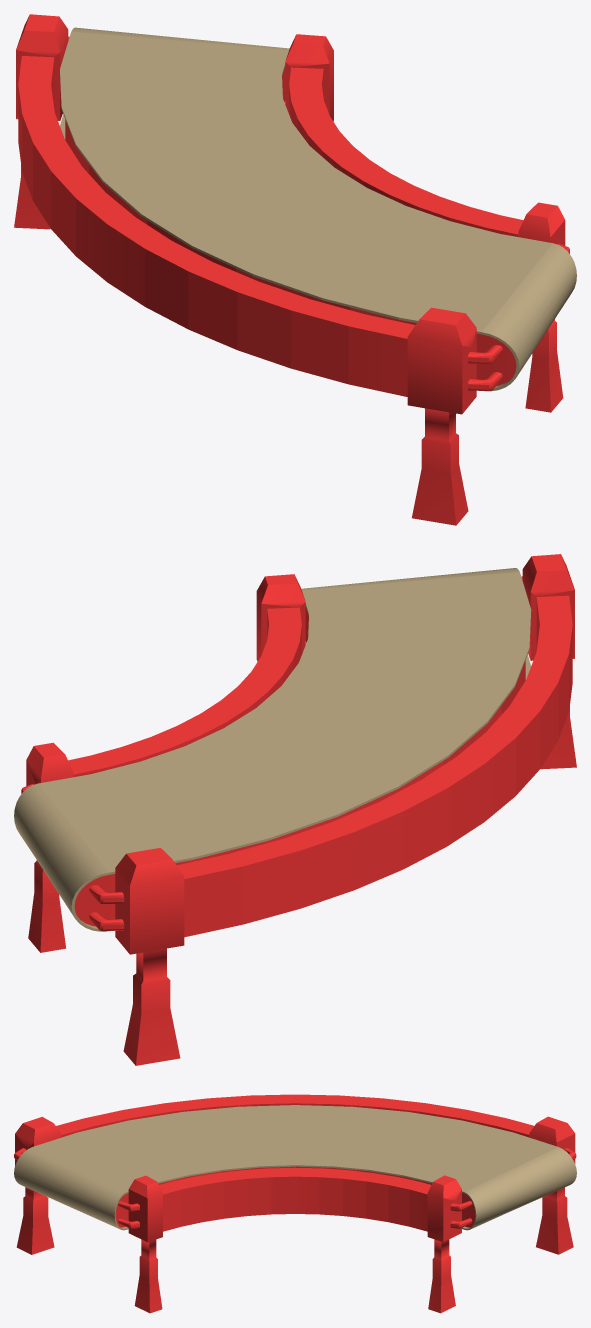
The model's file is Conyevour Belt curvelp.fbx.
3 renders of one model, top to bottom at view 1: azimuth 30°, elevation 25°; view 2: azimuth 150°, elevation 25°; view 3: azimuth 270°, elevation 25°, orthographic. The views are drawn at different scales.
Visible parts, largest first — view 1: cinta, cinta transportadora; view 2: cinta, cinta transportadora; view 3: cinta, cinta transportadora.
Part boxes in pixels (x1=…): cinta: x1=60, y1=27, x2=576, y2=391; cinta transportadora: x1=14, y1=14, x2=569, y2=525; cinta: x1=14, y1=568, x2=531, y2=931; cinta transportadora: x1=21, y1=554, x2=576, y2=1065; cinta: x1=14, y1=1105, x2=576, y2=1230; cinta transportadora: x1=14, y1=1094, x2=576, y2=1313.
Size of the model in its own units: 69.75 by 38.11 by 155.
